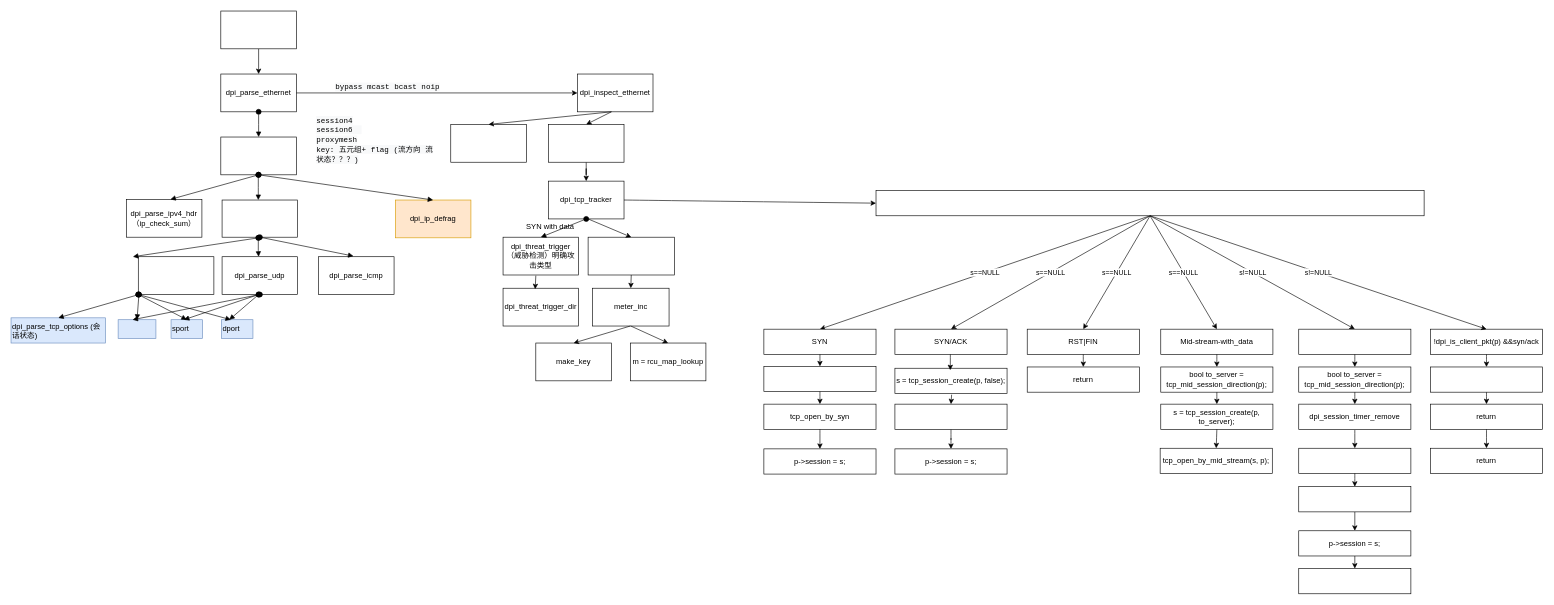
The diagram is 1554 pixels wide and 605 high, and some of its shapes have lost their labels. Here are the shapes that lost their labels. From the top down, the centre of each, then its label:
At [258,29]: "dpi_recv_packet".
At [258,155]: "dpi_parse_ipv4".
At [488,143]: "dpi_session_lookup".
At [586,143]: "dpi_pkt_proto_tracker".
At [259,218]: "ip_proto".
At [1149,203]: "dpi_session_t *s = p->session;".
At [176,275]: "dpi_parse_tcp".
At [630,256]: "dpi_meter_synflood_inc".
At [136,329]: "cksum".
At [1354,341]: "dpi_is_client_pkt(p) && tcph->syn && !tcph->ack)".
At [819,379]: "tcp_session_create(p, true);".
At [1486,379]: "p->session = NULL;".
At [950,416]: "tcp_open_by_synack".
At [1354,460]: "s = tcp_session_create(p, true);".
At [1354,499]: "tcp_open_by_syn(s);".
At [1354,581]: "dpi_session_release".
